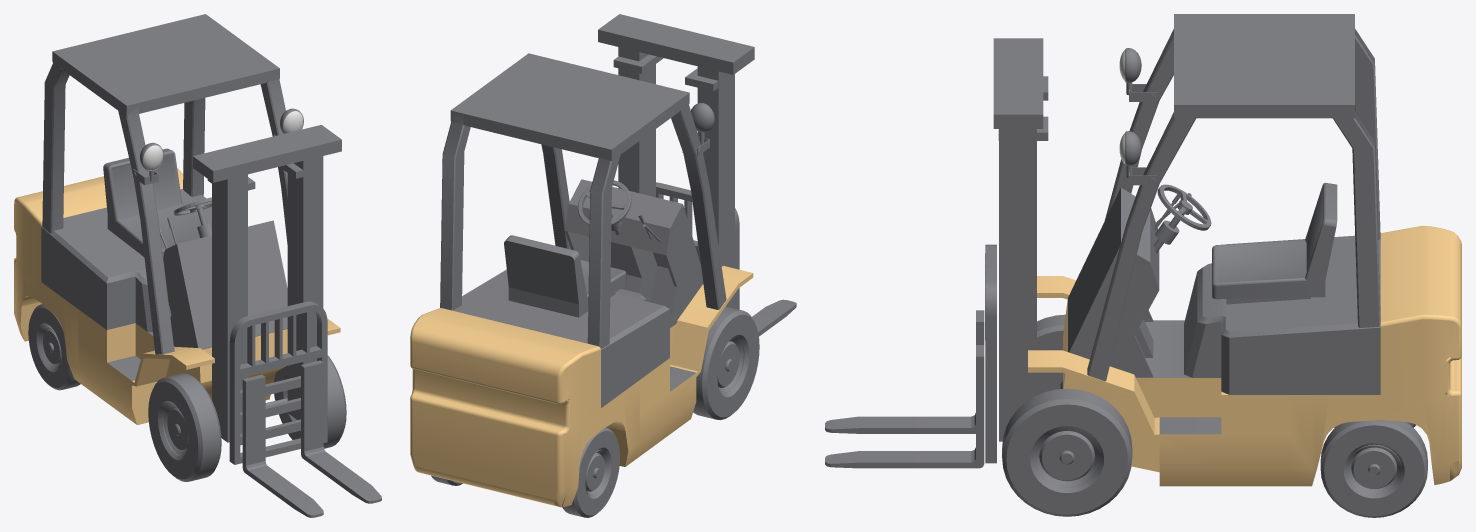
Rendered from forklift_v3.fbx.
3 views of the same model, side by side, from view 1: azimuth 30°, elevation 25°; view 2: azimuth 150°, elevation 25°; view 3: azimuth 270°, elevation 25° (orthographic). The views are drawn at different scales.
Parts seen in each view (by area): view 1: Base, Fork, FrontRightWheel, BackRightWheel, FrontLeftWheel, SteeringWheel; view 2: Base, FrontRightWheel, BackRightWheel, Fork, SteeringWheel; view 3: Base, FrontLeftWheel, Fork, BackLeftWheel, SteeringWheel, FrontRightWheel.
Boxes of the visible parts, x1,y1,x2,y2 form: Base: (14,14,341,442); Fork: (229,301,381,517); FrontRightWheel: (148,373,221,481); BackRightWheel: (28,304,80,390); FrontLeftWheel: (274,355,346,448); SteeringWheel: (173,197,211,238); Base: (410,14,754,507); FrontRightWheel: (693,306,759,419); BackRightWheel: (562,427,619,517); Fork: (656,182,796,336); SteeringWheel: (578,180,631,234); Base: (993,14,1461,486); FrontLeftWheel: (1002,388,1132,516); Fork: (825,244,996,468); BackLeftWheel: (1320,420,1427,517); SteeringWheel: (1154,184,1211,253); FrontRightWheel: (1037,314,1065,395).
Bounding box in the file's own units: 252 × 509 × 705.
